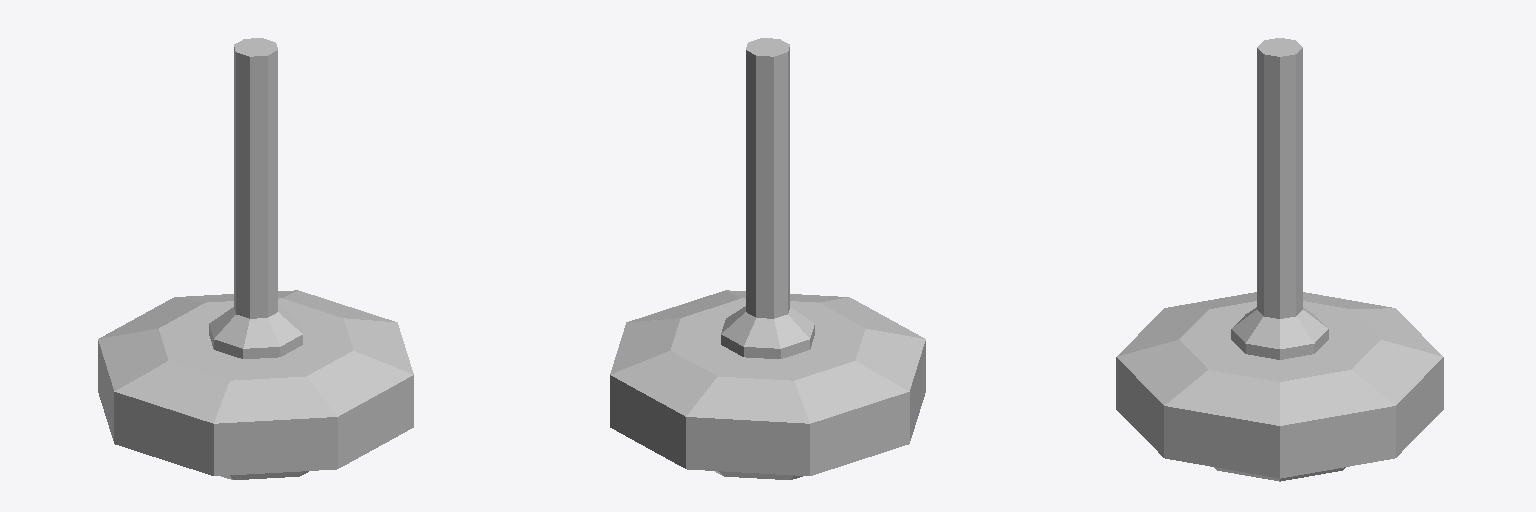
The model's file is CeilingLamp.obj.
3 renders of one model, left to right at view 1: azimuth 30°, elevation 25°; view 2: azimuth 150°, elevation 25°; view 3: azimuth 270°, elevation 25°, orthographic.
Visible parts, largest first — view 1: Cube.002, Cylinder.001; view 2: Cube.002, Cylinder.001; view 3: Cube.002, Cylinder.001.
Part boxes in pixels (x1,y1,x2,y2): Cube.002: (98, 290, 413, 475); Cylinder.001: (209, 38, 302, 358); Cube.002: (610, 290, 925, 475); Cylinder.001: (721, 38, 814, 358); Cube.002: (1116, 292, 1443, 478); Cylinder.001: (1231, 38, 1328, 359).
Bounding box in the file's own units: 0.7622 × 1.07 × 0.7622.